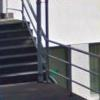stairs: (1, 15, 42, 84)
